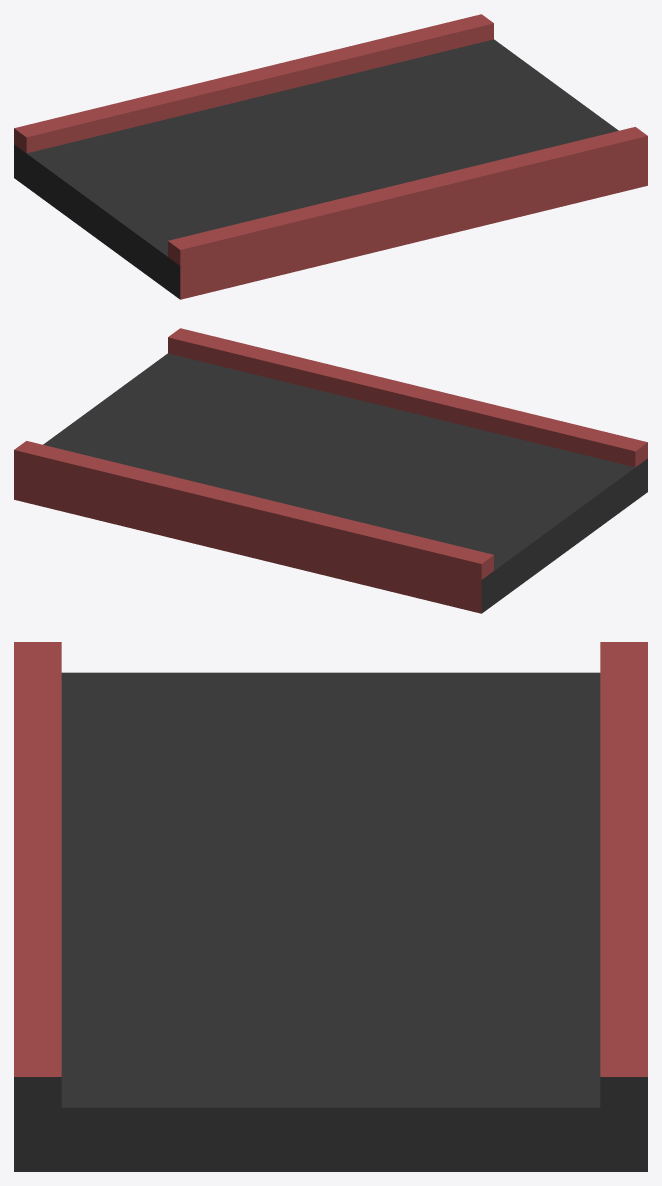
The model's file is road.fbx.
3 renders of one model, top to bottom at view 1: azimuth 30°, elevation 25°; view 2: azimuth 150°, elevation 25°; view 3: azimuth 270°, elevation 25°, orthographic. The views are drawn at different scales.
Visible parts, largest first — view 1: pCube8; view 2: pCube8; view 3: pCube8.
Boxes of the visible parts, bbox=[...] form: pCube8: bbox=[14, 14, 647, 299]; pCube8: bbox=[14, 328, 647, 613]; pCube8: bbox=[14, 642, 647, 1171].
Bounding box in the file's own units: 13.8 × 1.4 × 8.5.
